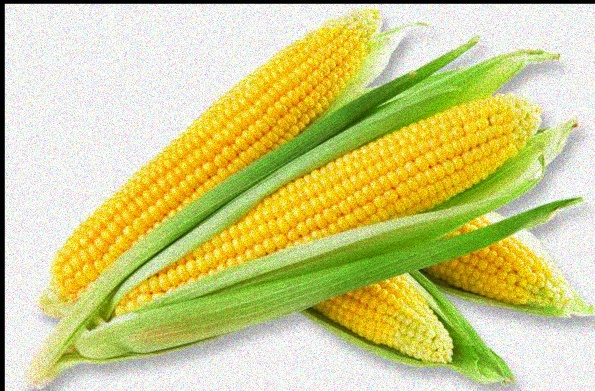corn: (43, 10, 382, 305), (112, 90, 538, 317)
